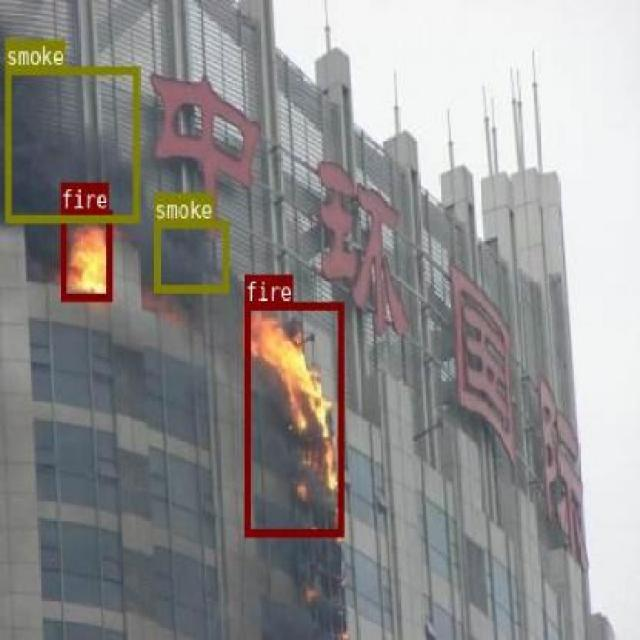Fire: (244, 302, 342, 536), (58, 209, 111, 300)
Smoke: (4, 66, 138, 222), (153, 219, 227, 292)
